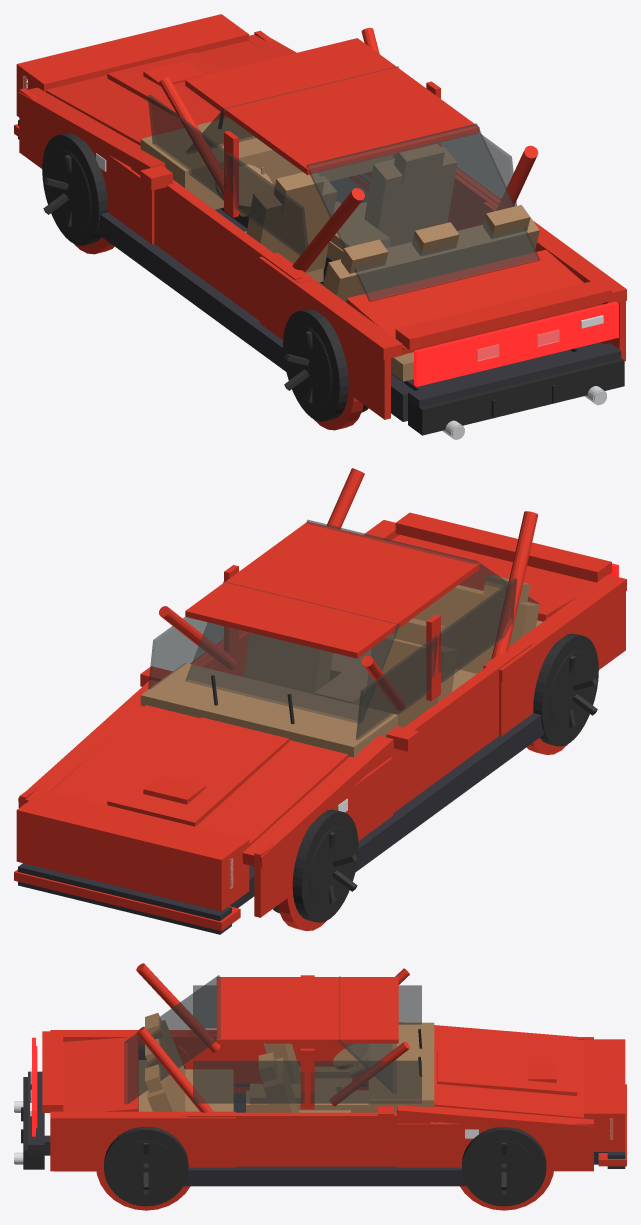
The model's file is vehicle.glb.
The picture shows the model from 3 angles, top to bottom: view 1: azimuth 30°, elevation 25°; view 2: azimuth 150°, elevation 25°; view 3: azimuth 270°, elevation 25°; orthographic projection. The views are drawn at different scales.
Visible parts, largest first — view 1: Charger_Body_Main, Charger_Automotive_Glass, Charger_Interior_Cockpit, Charger_Roof_Panel, Charger_Platform_Chassis, Charger_LED_Racetrack_Taillamp, Charger_Grille_And_Aero_Trim, Charger_Tire_RL, Charger_Tire_FL, Charger_Wheel_RL, Charger_Wheel_FL, Charger_Exhaust_System; view 2: Charger_Body_Main, Charger_Roof_Panel, Charger_Interior_Cockpit, Charger_Automotive_Glass, Charger_Platform_Chassis, Charger_Tire_FL, Charger_Tire_RL, Charger_Wheel_RL, Charger_Wheel_FL; view 3: Charger_Body_Main, Charger_Automotive_Glass, Charger_Roof_Panel, Charger_Interior_Cockpit, Charger_Platform_Chassis, Charger_Tire_FR, Charger_Tire_RR, Charger_Grille_And_Aero_Trim, Charger_Wheel_RR, Charger_Wheel_FR, Charger_LED_Racetrack_Taillamp.
Boxes of the visible parts, x1,y1,x2,y2 form: Charger_Body_Main: (14,14,626,430); Charger_Automotive_Glass: (147,66,539,301); Charger_Interior_Cockpit: (140,118,539,381); Charger_Roof_Panel: (159,27,538,271); Charger_Platform_Chassis: (18,120,621,421); Charger_LED_Racetrack_Taillamp: (414,301,618,386); Charger_Grille_And_Aero_Trim: (218,112,624,435); Charger_Tire_RL: (283,308,368,421); Charger_Tire_FL: (42,132,108,245); Charger_Wheel_RL: (284,325,332,407); Charger_Wheel_FL: (43,149,91,231); Charger_Exhaust_System: (442,386,606,439); Charger_Body_Main: (14,512,626,931); Charger_Roof_Panel: (159,468,537,710); Charger_Interior_Cockpit: (140,575,542,757); Charger_Automotive_Glass: (148,520,539,739); Charger_Platform_Chassis: (18,713,544,934); Charger_Tire_FL: (273,809,358,922); Charger_Tire_RL: (533,633,598,746); Charger_Wheel_RL: (549,650,597,731); Charger_Wheel_FL: (309,826,357,908); Charger_Body_Main: (42,1022,626,1210); Charger_Automotive_Glass: (124,975,421,1104); Charger_Roof_Panel: (136,963,409,1112); Charger_Interior_Cockpit: (138,1013,434,1122); Charger_Platform_Chassis: (28,1071,625,1186); Charger_Tire_FR: (462,1127,546,1206); Charger_Tire_RR: (104,1127,188,1206); Charger_Grille_And_Aero_Trim: (21,1028,422,1169); Charger_Wheel_RR: (115,1140,177,1196); Charger_Wheel_FR: (473,1140,535,1196); Charger_LED_Racetrack_Taillamp: (32,1037,37,1136).
Size of what is drawn, in the model's own units: 2.28 by 1.61 by 5.22.
